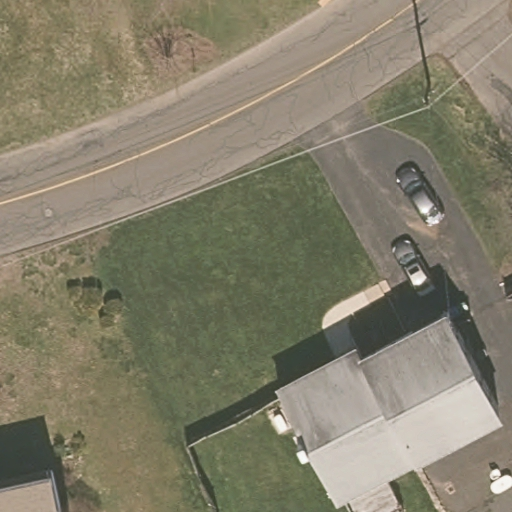DT: (422, 90, 441, 113)
